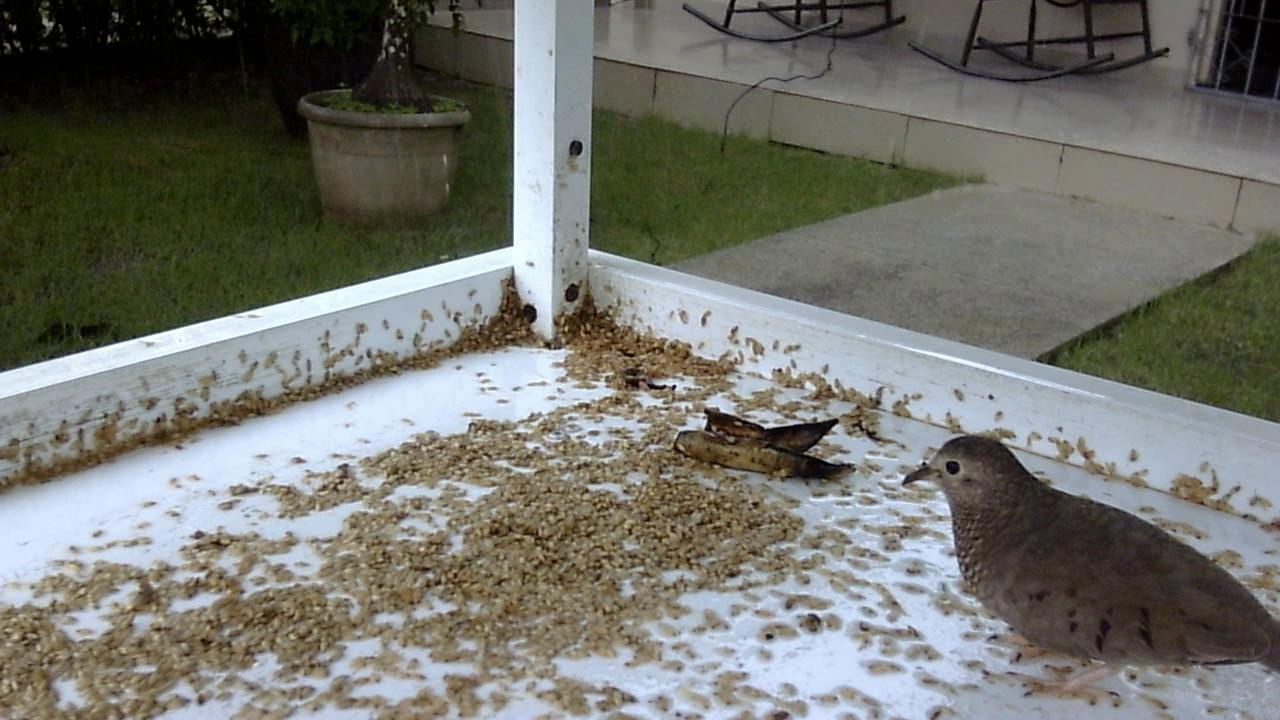rolinha: (893, 425, 1280, 702)
